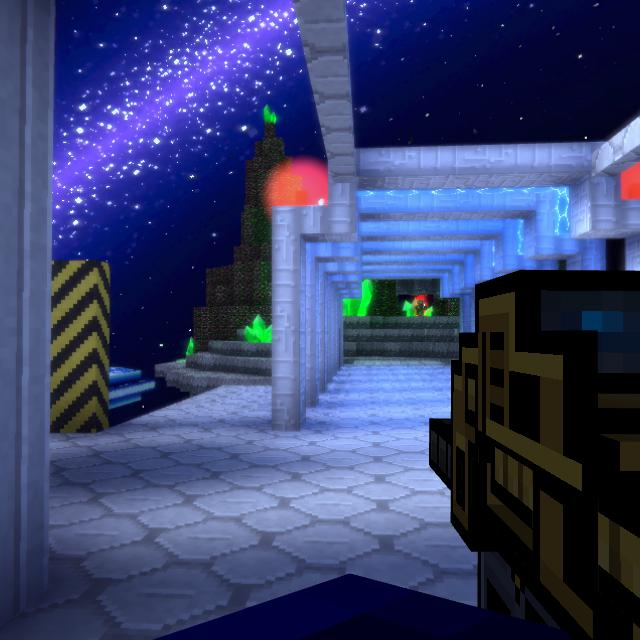Enemy: (415, 300, 428, 317)
